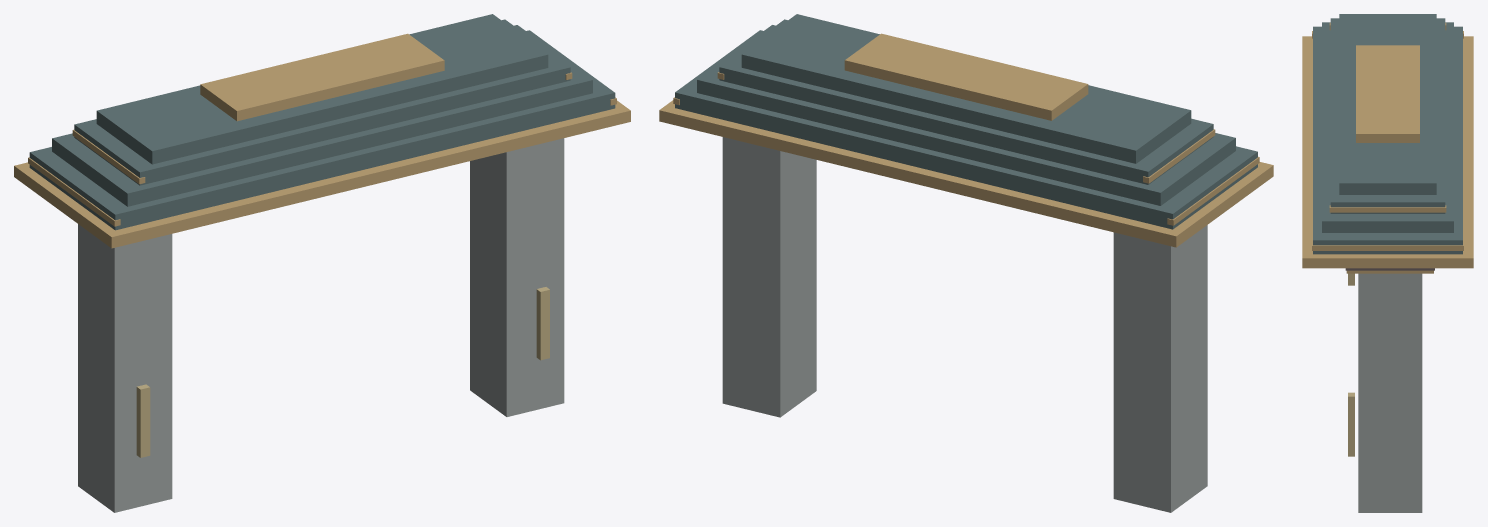
Rendered from fortress_gate.glb.
3 renders of one model, left to right at view 1: azimuth 30°, elevation 25°; view 2: azimuth 150°, elevation 25°; view 3: azimuth 270°, elevation 25°, orthographic. The views are drawn at different scales.
Visible parts, largest first — view 1: fortress_gate_04_roof_courses, fortress_gate_00_gate_posts, fortress_gate_03_eaves, fortress_gate_06_upper_ridge, fortress_gate_07_banners, fortress_gate_05_ridge_trim; view 2: fortress_gate_04_roof_courses, fortress_gate_00_gate_posts, fortress_gate_03_eaves, fortress_gate_06_upper_ridge, fortress_gate_05_ridge_trim; view 3: fortress_gate_04_roof_courses, fortress_gate_00_gate_posts, fortress_gate_03_eaves, fortress_gate_06_upper_ridge, fortress_gate_05_ridge_trim, fortress_gate_07_banners, fortress_gate_01_caps, fortress_gate_02_lintel.
Boxes of the visible parts, x1,y1,x2,y2 form: fortress_gate_04_roof_courses: (29,14,615,230); fortress_gate_00_gate_posts: (78,138,564,512); fortress_gate_03_eaves: (14,100,630,248); fortress_gate_06_upper_ridge: (200,33,444,121); fortress_gate_07_banners: (136,287,549,457); fortress_gate_05_ridge_trim: (28,72,616,226); fortress_gate_04_roof_courses: (675,14,1257,229); fortress_gate_00_gate_posts: (722,137,1207,512); fortress_gate_03_eaves: (659,100,1273,247); fortress_gate_06_upper_ridge: (844,33,1088,120); fortress_gate_05_ridge_trim: (673,72,1259,225); fortress_gate_04_roof_courses: (1313,14,1462,254); fortress_gate_00_gate_posts: (1358,273,1422,512); fortress_gate_03_eaves: (1302,36,1473,268); fortress_gate_06_upper_ridge: (1356,45,1419,142); fortress_gate_05_ridge_trim: (1312,22,1463,250); fortress_gate_07_banners: (1348,273,1354,456); fortress_gate_01_caps: (1346,270,1433,273); fortress_gate_02_lintel: (1345,268,1434,270).
Size of the model in its own units: 13.5 by 9.27 by 4.4.
